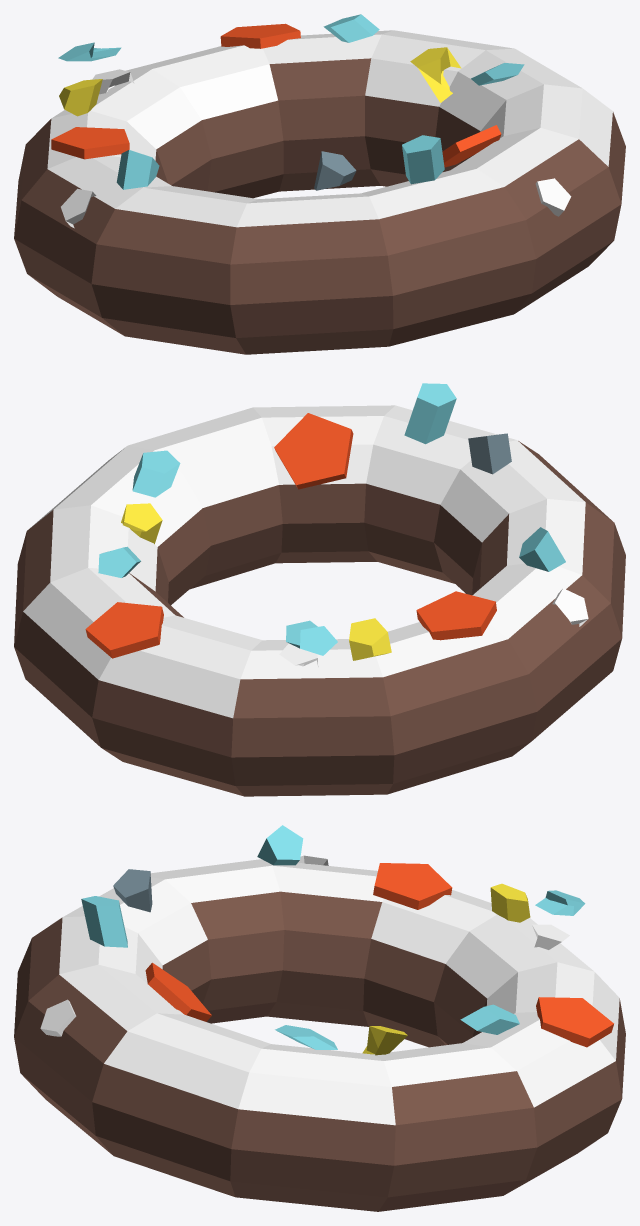
3 renders of one model, top to bottom at view 1: azimuth 30°, elevation 25°; view 2: azimuth 150°, elevation 25°; view 3: azimuth 270°, elevation 25°, orthographic.
Parts seen in each view (by area): view 1: mesh_894954661, group_256227474, group_523930987, group_680376250, group_1522555707, group_1125849422, group_1323087161, group_365973291, group_1946102913, group_1986962543, group_157592335, group_172199413 (+3 smaller); view 2: mesh_894954661, group_1946102913, group_680376250, group_256227474, group_523930987, group_564971794, group_365973291, group_1323087161, group_1125849422, group_2141458425, group_1522555707, group_1986962543 (+1 smaller); view 3: mesh_894954661, group_256227474, group_680376250, group_523930987, group_1946102913, group_1125849422, group_1323087161, group_365973291, group_1986962543, group_1522555707, group_157592335, group_2141458425 (+2 smaller).
Part boxes in pixels (left/top/right/bottom): mesh_894954661: left=14, top=30, right=625, bottom=354; group_256227474: left=51, top=127, right=129, bottom=159; group_523930987: left=402, top=135, right=444, bottom=184; group_680376250: left=220, top=23, right=300, bottom=48; group_1522555707: left=410, top=47, right=461, bottom=102; group_1125849422: left=116, top=150, right=159, bottom=189; group_1323087161: left=314, top=151, right=356, bottom=190; group_365973291: left=59, top=79, right=102, bottom=116; group_1946102913: left=442, top=125, right=501, bottom=167; group_1986962543: left=323, top=14, right=379, bottom=42; group_157592335: left=535, top=178, right=571, bottom=216; group_172199413: left=61, top=188, right=96, bottom=228; mesh_894954661: left=14, top=405, right=625, bottom=796; group_1946102913: left=274, top=413, right=353, bottom=489; group_680376250: left=85, top=602, right=163, bottom=658; group_256227474: left=416, top=591, right=496, bottom=640; group_523930987: left=404, top=383, right=456, bottom=444; group_564971794: left=132, top=450, right=180, bottom=497; group_365973291: left=349, top=618, right=391, bottom=660; group_1323087161: left=468, top=433, right=511, bottom=474; group_1125849422: left=519, top=527, right=565, bottom=571; group_2141458425: left=286, top=620, right=337, bottom=655; group_1522555707: left=121, top=503, right=162, bottom=544; group_1986962543: left=98, top=546, right=140, bottom=577; mesh_894954661: left=14, top=859, right=625, bottom=1211; group_256227474: left=373, top=863, right=452, bottom=909; group_680376250: left=536, top=997, right=613, bottom=1047; group_523930987: left=81, top=896, right=127, bottom=947; group_1946102913: left=145, top=962, right=211, bottom=1021; group_1125849422: left=257, top=825, right=303, bottom=865; group_1323087161: left=113, top=869, right=152, bottom=912; group_365973291: left=490, top=883, right=530, bottom=922; group_1986962543: left=460, top=1004, right=519, bottom=1034; group_1522555707: left=362, top=1026, right=407, bottom=1055; group_157592335: left=40, top=999, right=76, bottom=1036; group_2141458425: left=535, top=890, right=585, bottom=915.
Size of the model in its own units: 29.16 by 11.92 by 29.01.
